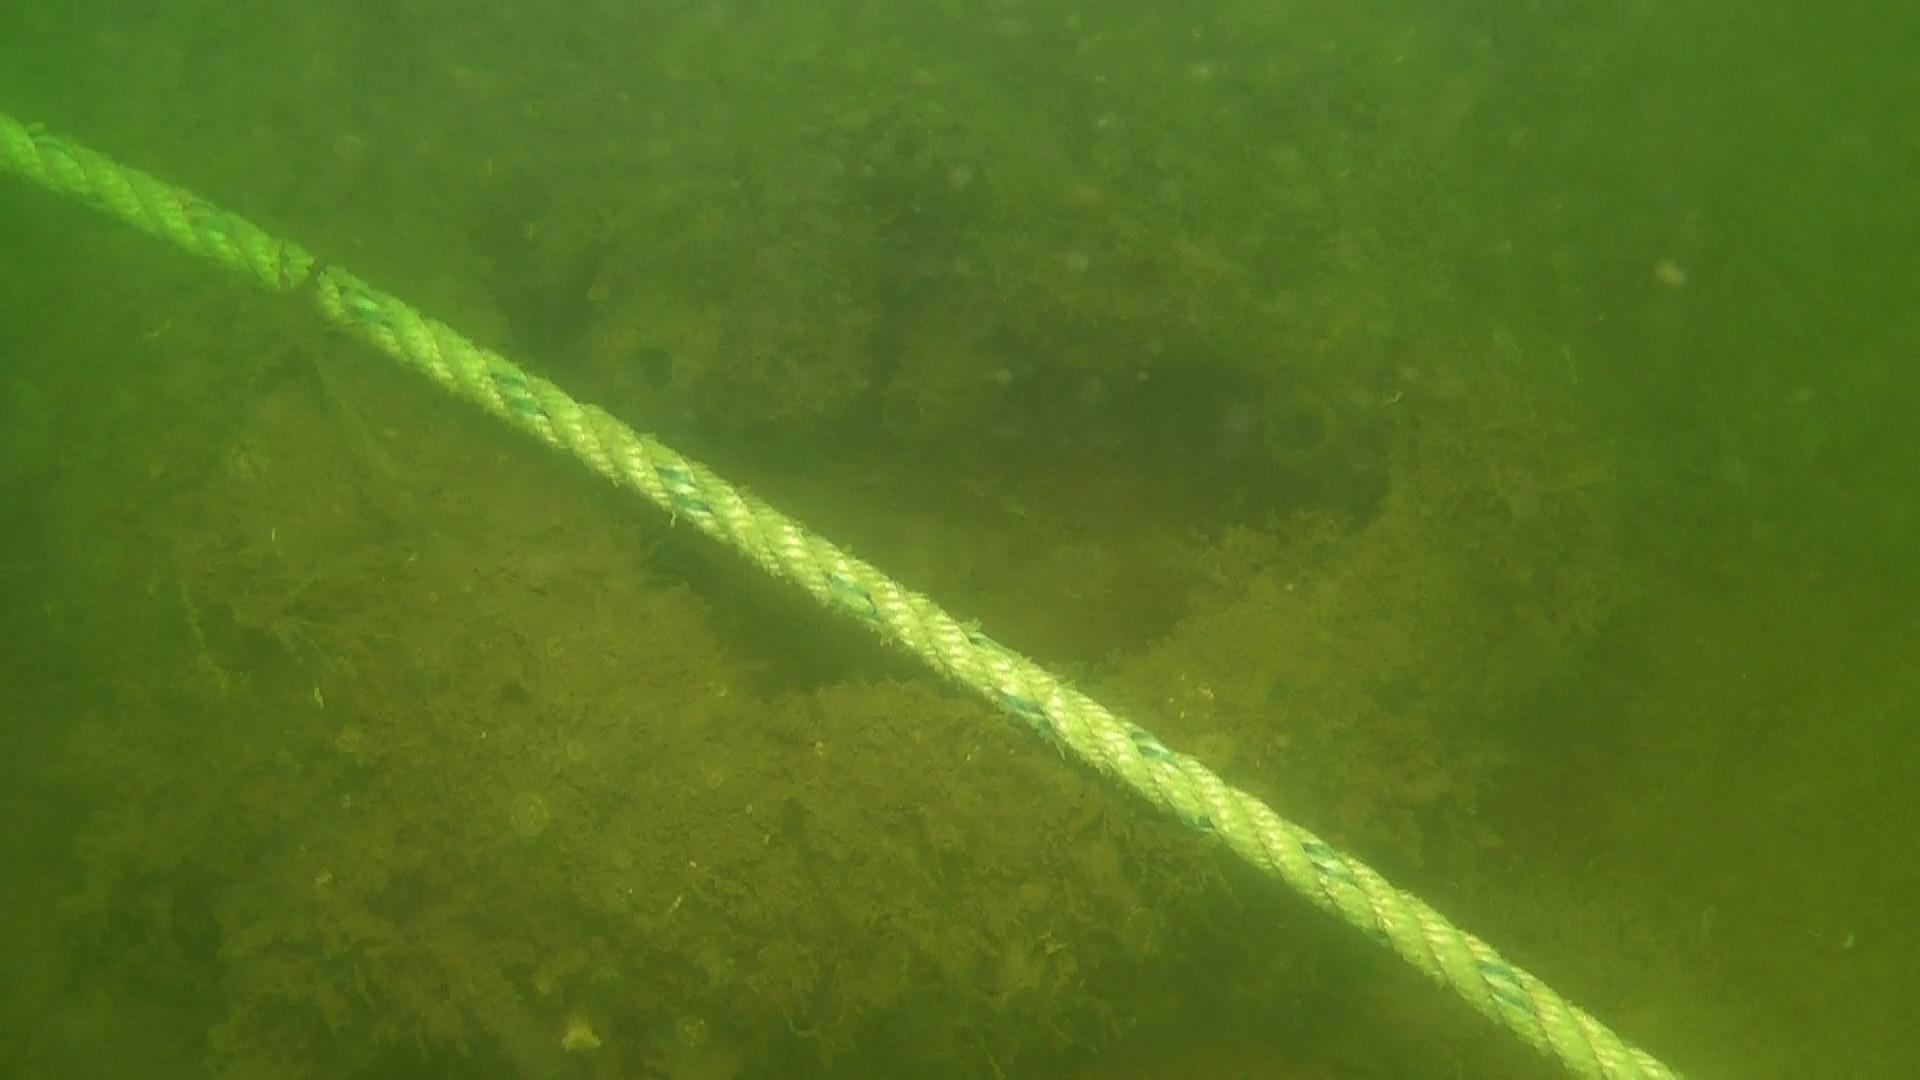rope: (0, 112, 1683, 1080)
